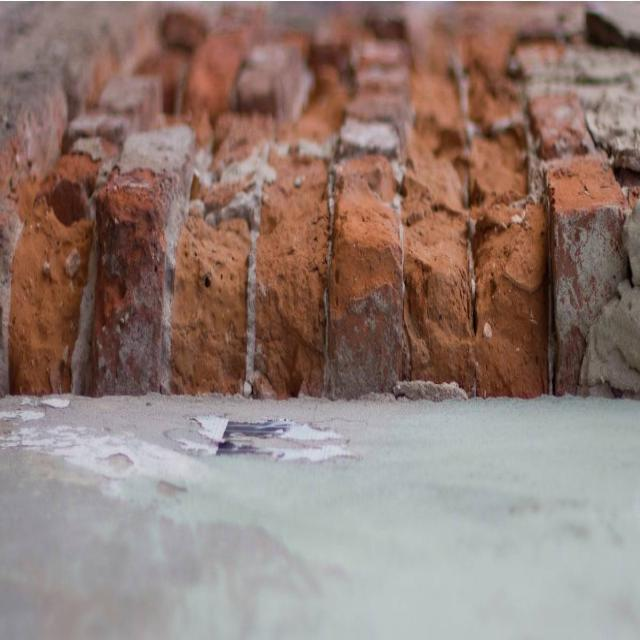efflorescence: (120, 131, 195, 373), (560, 214, 618, 384)
